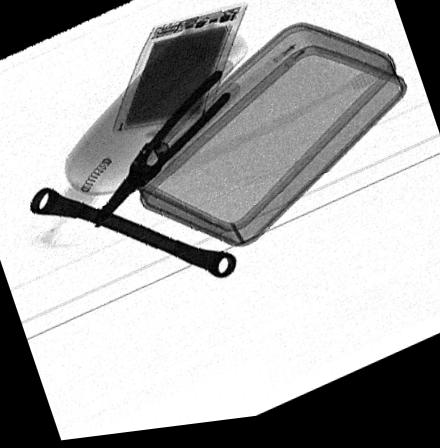Pliers: (98, 74, 236, 231)
Powerbank: (111, 10, 250, 139)
Wrench: (31, 189, 236, 284)
